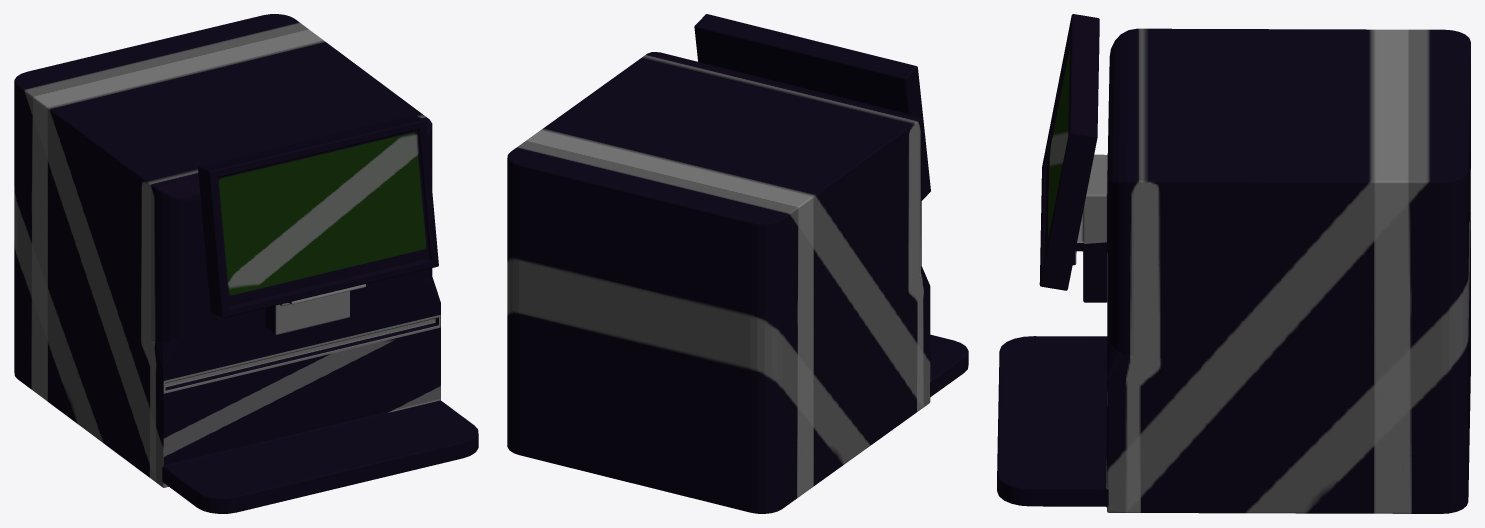
File: coffee_machine.glb
The picture shows the model from 3 angles, left to right: view 1: azimuth 30°, elevation 25°; view 2: azimuth 150°, elevation 25°; view 3: azimuth 270°, elevation 25°; orthographic projection. The views are drawn at different scales.
Parts seen in each view (by area): view 1: coffee_machine-col; view 2: coffee_machine-col; view 3: coffee_machine-col.
Part boxes in pixels (x1,y1,x2,y2): coffee_machine-col: (14, 14, 478, 513); coffee_machine-col: (507, 14, 968, 513); coffee_machine-col: (997, 14, 1470, 513).
Bounding box in the file's own units: 1.47 × 1.62 × 1.92.
1 material, 1 textured.
